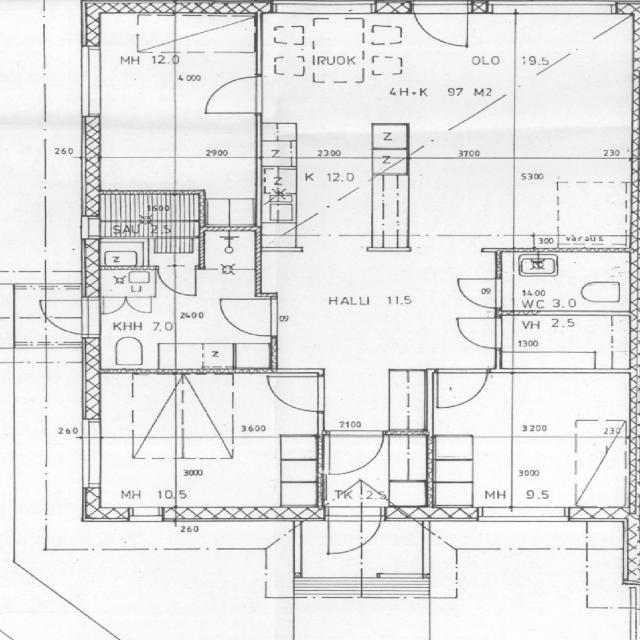door: (328, 507, 382, 560), (413, 0, 468, 52), (329, 431, 383, 474), (34, 300, 100, 334), (220, 298, 278, 336), (205, 77, 262, 113), (437, 368, 487, 409), (269, 376, 324, 410), (454, 318, 501, 348), (456, 279, 501, 307), (157, 266, 195, 297), (413, 0, 467, 12), (104, 296, 128, 314), (128, 296, 152, 314)
